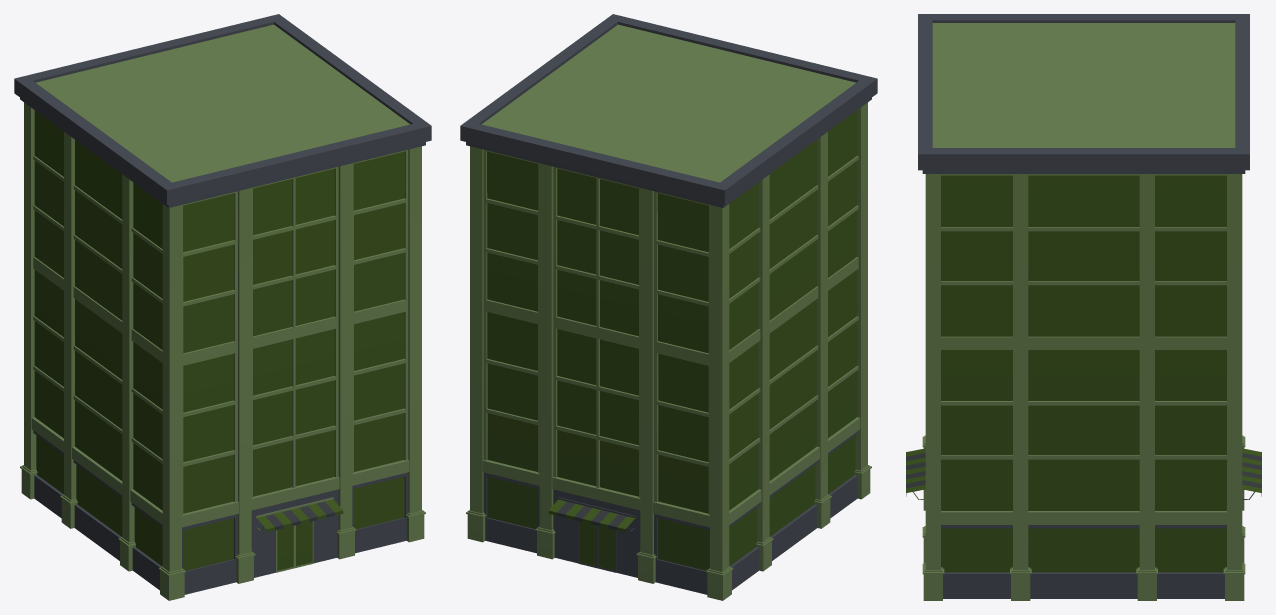
File: House_25.fbx
3 views of the same model, side by side, from view 1: azimuth 30°, elevation 25°; view 2: azimuth 150°, elevation 25°; view 3: azimuth 270°, elevation 25° (orthographic). The views are drawn at different scales.
Visible parts, largest first — view 1: House_25; view 2: House_25; view 3: House_25.
Boxes of the visible parts, left/top/right/bottom form: House_25: left=14, top=14, right=431, bottom=600; House_25: left=460, top=14, right=877, bottom=600; House_25: left=906, top=14, right=1261, bottom=600.
Bounding box in the file's own units: 12.06 × 18 × 12.93.
